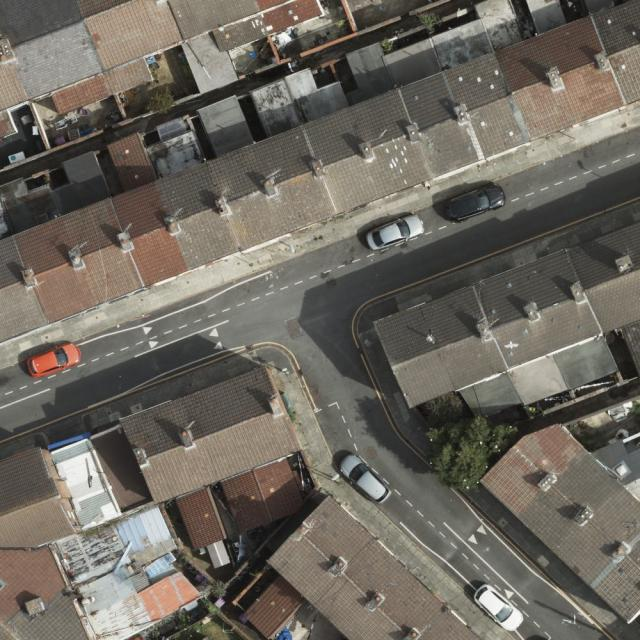roof: (0, 0, 640, 346), (374, 222, 640, 419), (0, 0, 328, 141), (120, 366, 306, 551), (243, 495, 480, 640), (480, 423, 640, 622), (0, 448, 91, 640)
skylight: (610, 461, 631, 480)
